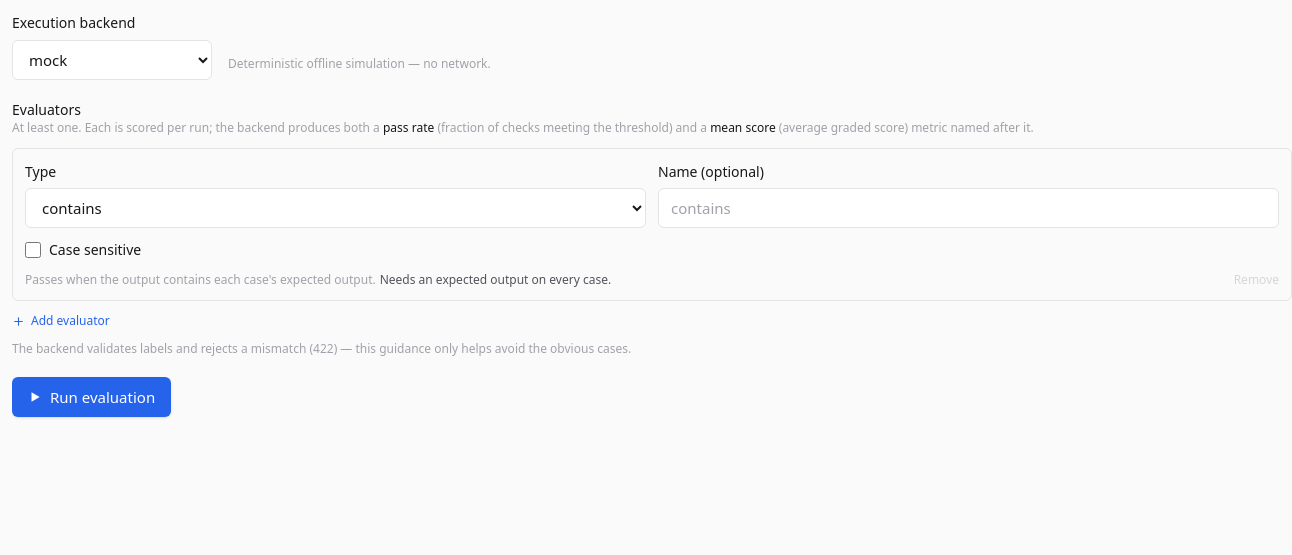
Test: RunForm — RAG & agent evaluator configuration › blocks an out-of-range threshold client-side but keeps the backend authoritative
Select "groundedness" in the dropdown labelled "Type" at (336, 208), box [25,188,646,228]
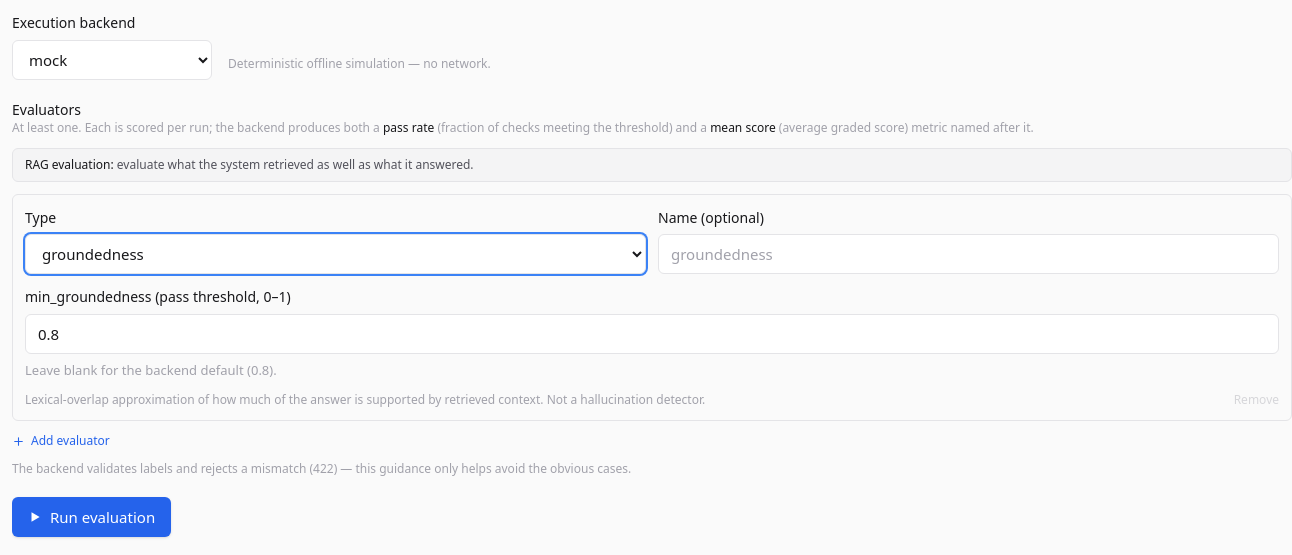
Replace the text in the number field labelled "min_groundedness (pass threshold, 0–1)" with "5" at (652, 334), box [25,314,1279,354]
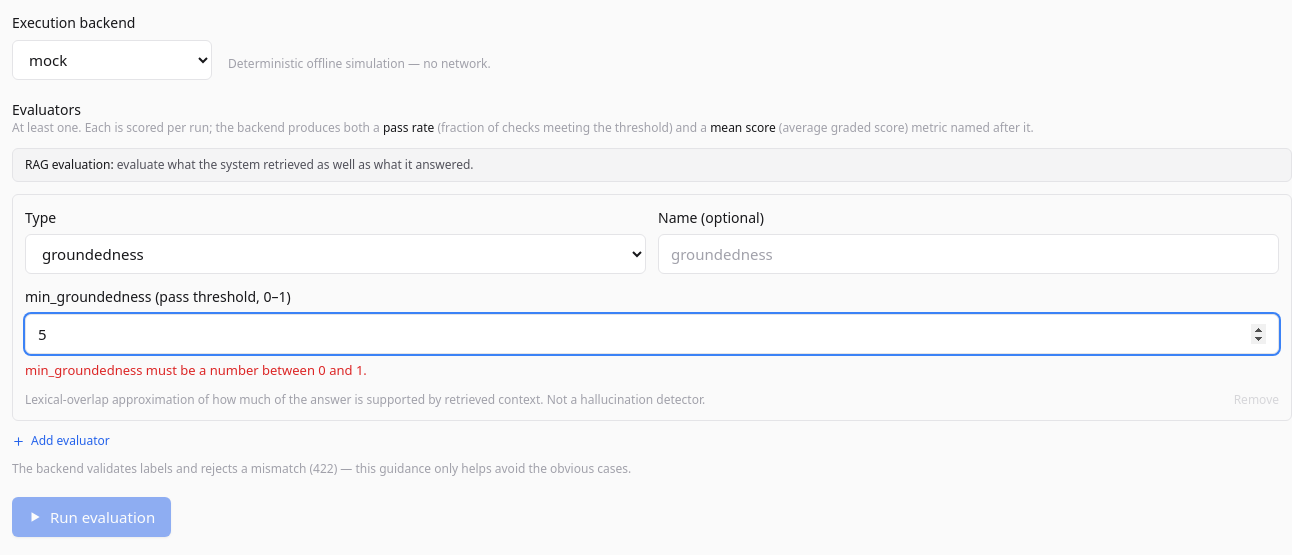
Check: the text "backend validates labels and rejects a mismatch" is shown, box [12,460,631,477]
Check: the text "min_groundedness must be a number between 0 and 1." is shown, box [25,361,367,379]
Check: the button "Run evaluation" is disabled, box [12,497,171,537]
